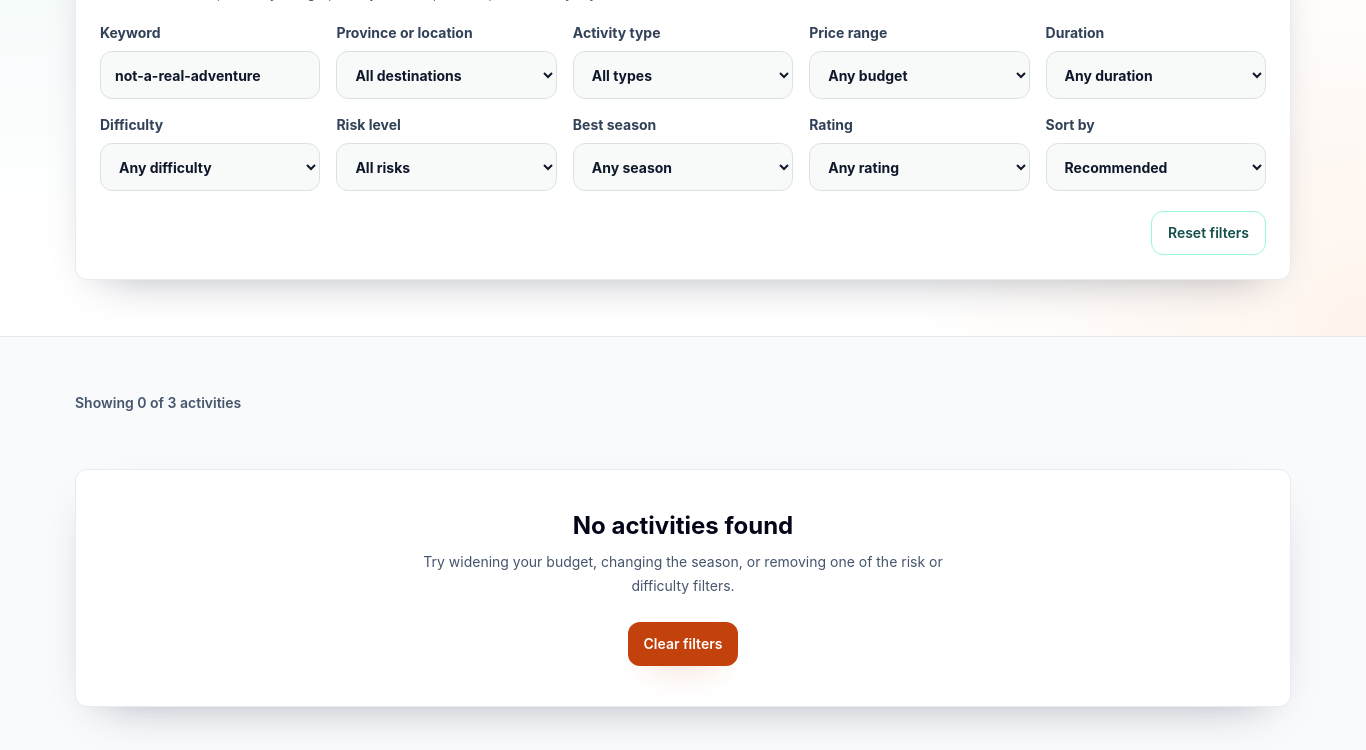
it: catalogue, comparison, and booking pages › clears filters from the no-results recovery action
(page scrolled)
Expected: the heading "No activities found" is shown, [573,511,793,540]
Click the button "Clear filters".
click(683, 644)  # box [628,622,738,666]
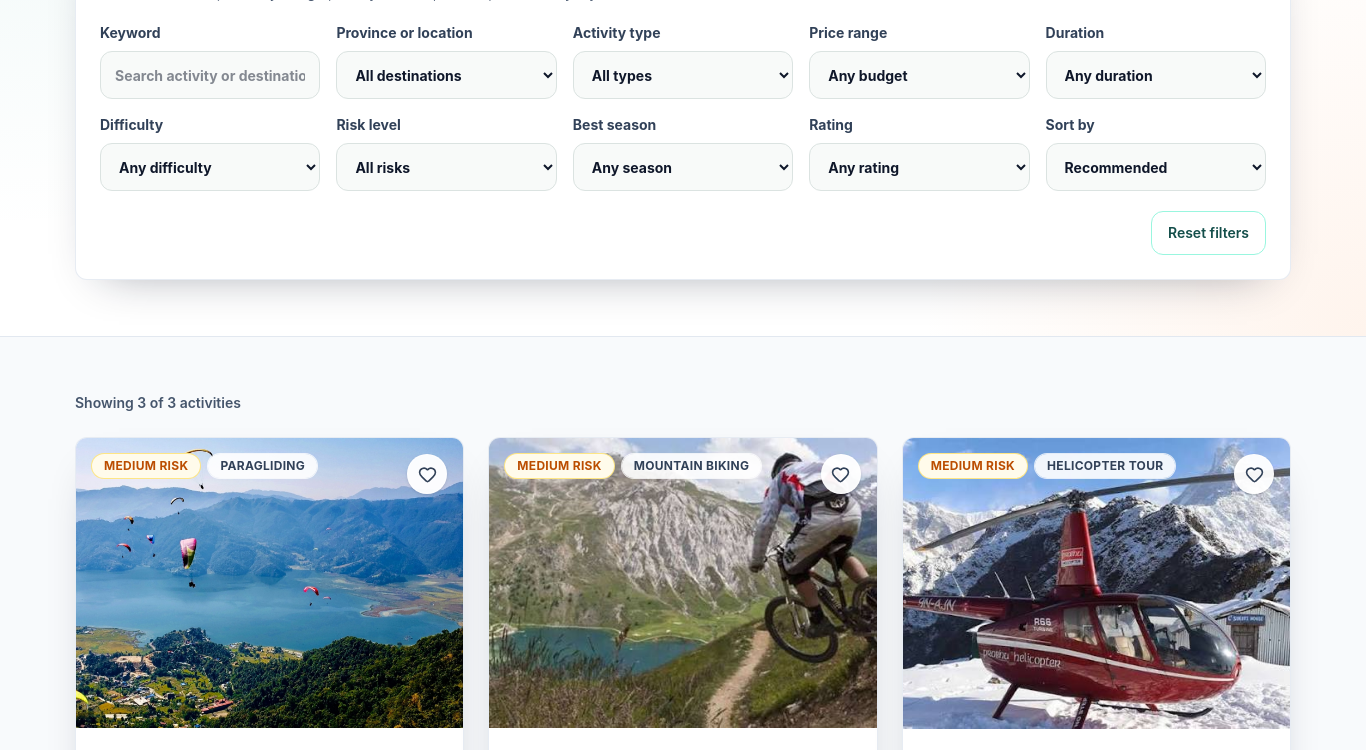
Now the text "Showing 3 of 3 activities" is shown, box [75,393,241,413]
Now the field labelled "Keyword" is empty, box [100,51,320,99]
